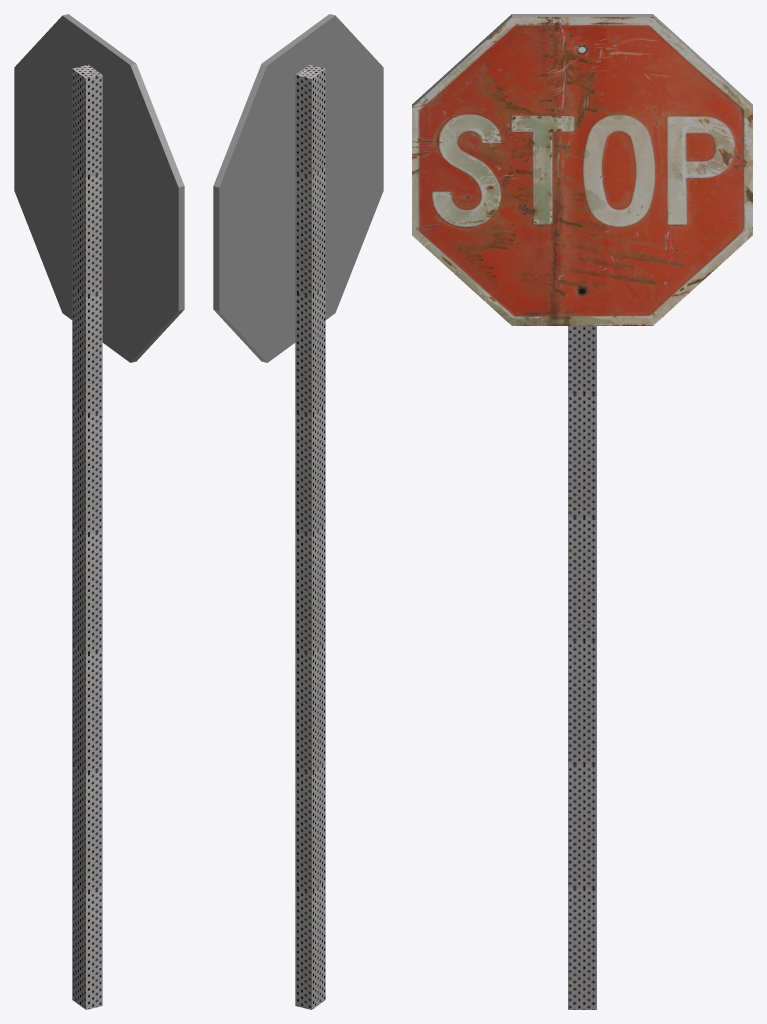
The model's file is Stop.fbx.
The picture shows the model from 3 angles, left to right: view 1: azimuth 30°, elevation 25°; view 2: azimuth 150°, elevation 25°; view 3: azimuth 270°, elevation 25°; orthographic projection. The views are drawn at different scales.
Visible parts, largest first — view 1: Stop; view 2: Stop; view 3: Stop.
Part boxes in pixels (box(x1,y1,x2,y2)): Stop: box(14, 14, 184, 1009); Stop: box(213, 14, 383, 1009); Stop: box(412, 14, 752, 1009).
Size of the model in its own units: 5.64 by 221 by 68.58.
